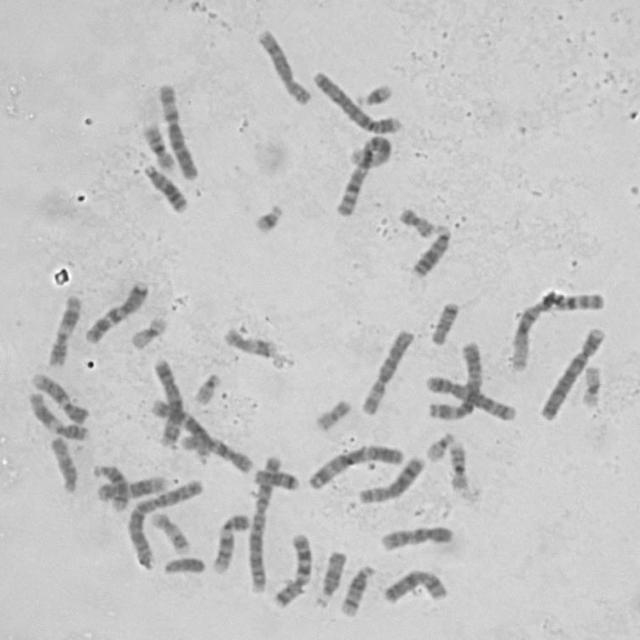A1: (506, 285, 607, 373), (332, 131, 396, 218)
A2: (123, 475, 204, 571), (245, 452, 284, 595)
A3: (424, 336, 485, 421), (305, 441, 407, 491)
B4: (536, 322, 608, 422), (309, 65, 405, 136)
B5: (423, 371, 519, 423), (149, 354, 185, 448)
C10: (174, 430, 255, 474), (377, 522, 455, 552)
C11: (23, 388, 91, 442), (44, 291, 84, 368)
C12: (146, 394, 213, 464), (93, 472, 169, 502)
C6: (356, 325, 416, 417), (154, 78, 201, 181)
C7: (80, 277, 151, 345), (268, 528, 314, 610)
C8: (252, 23, 314, 107), (354, 452, 427, 505)
C9: (27, 368, 90, 425), (208, 509, 252, 575)
D13: (139, 159, 191, 214), (408, 220, 453, 279)
D14: (338, 561, 378, 617), (88, 461, 130, 512)
D15: (312, 546, 349, 608), (46, 432, 81, 495)
E16: (139, 119, 176, 172), (445, 438, 470, 492)
E17: (220, 322, 280, 358), (148, 507, 192, 556)
E18: (426, 296, 462, 348), (250, 465, 302, 493)
F19: (127, 312, 170, 351), (578, 360, 604, 408)
F20: (311, 394, 354, 433), (395, 203, 437, 239)
G21: (250, 198, 286, 234), (354, 78, 396, 108)
G22: (190, 369, 223, 406), (422, 428, 456, 462)
X: (380, 565, 450, 606)
Y: (160, 552, 207, 576)
